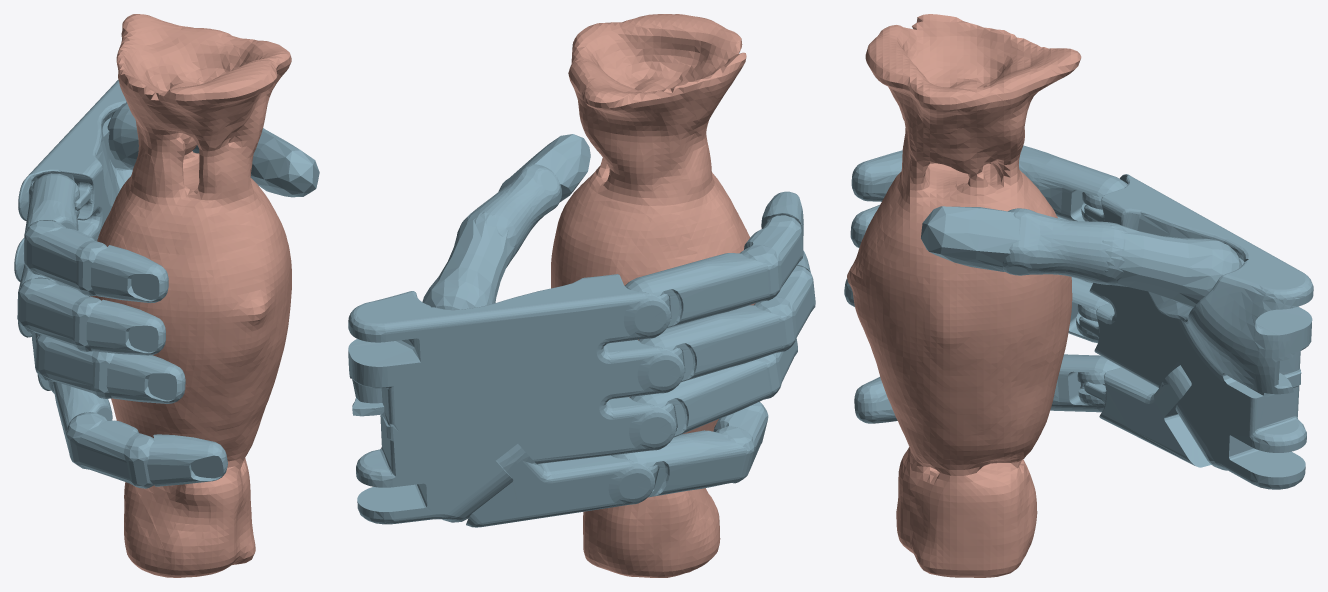
File: 11_joint.glb
3 renders of one model, left to right at view 1: azimuth 30°, elevation 25°; view 2: azimuth 150°, elevation 25°; view 3: azimuth 270°, elevation 25°, orthographic.
Parts seen in each view (by area): view 1: world; view 2: world; view 3: world.
Part boxes in pixels (x1,y1,x2,y2): world: (14, 14, 319, 577); world: (348, 14, 815, 577); world: (844, 14, 1313, 577).
Size of the model in its own units: 0.8143 by 1.31 by 1.09.
